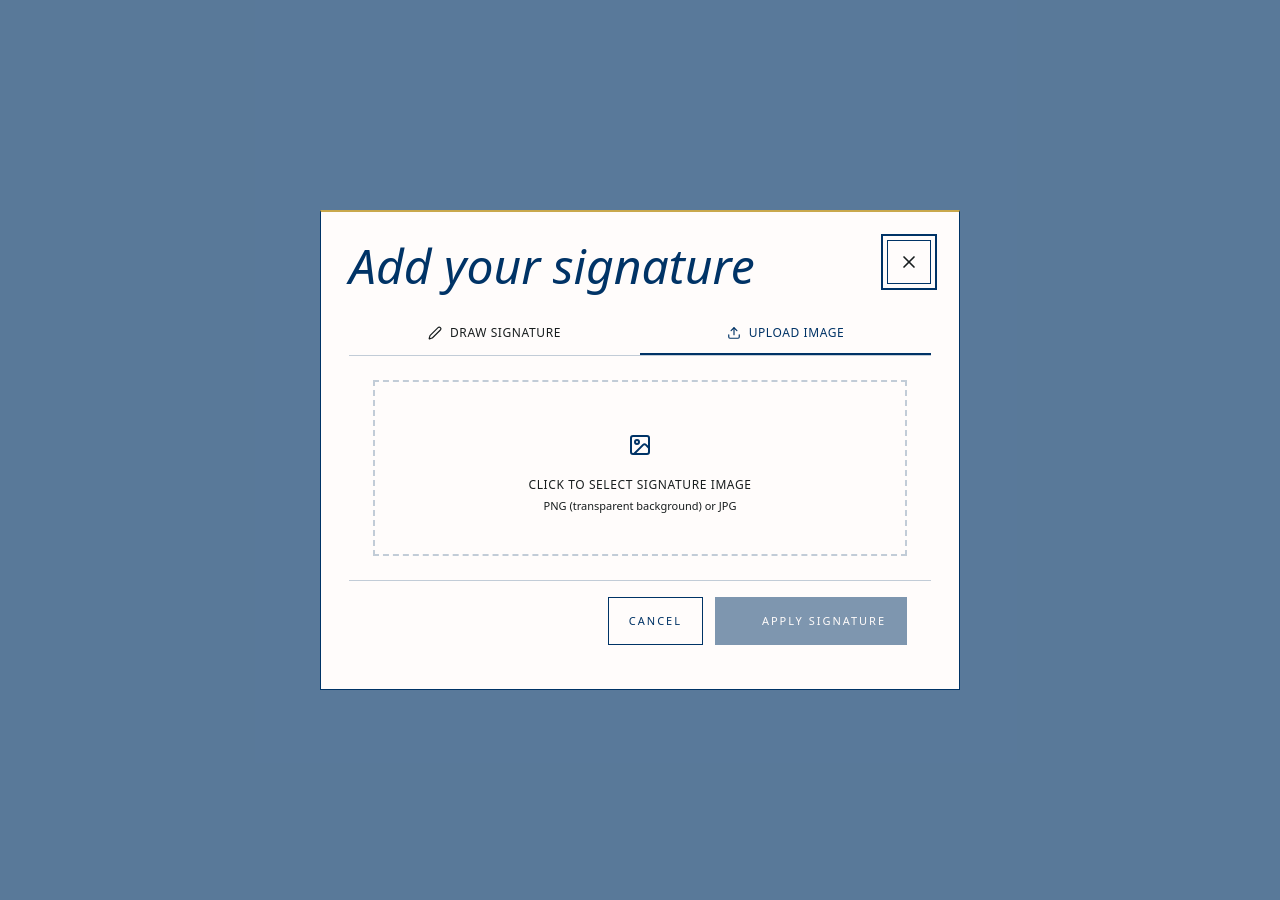
Test case: SignatureModal › keeps the Draw Signature tab active after it is clicked
Click the button "Draw Signature": (494,334) [349,313,640,355]
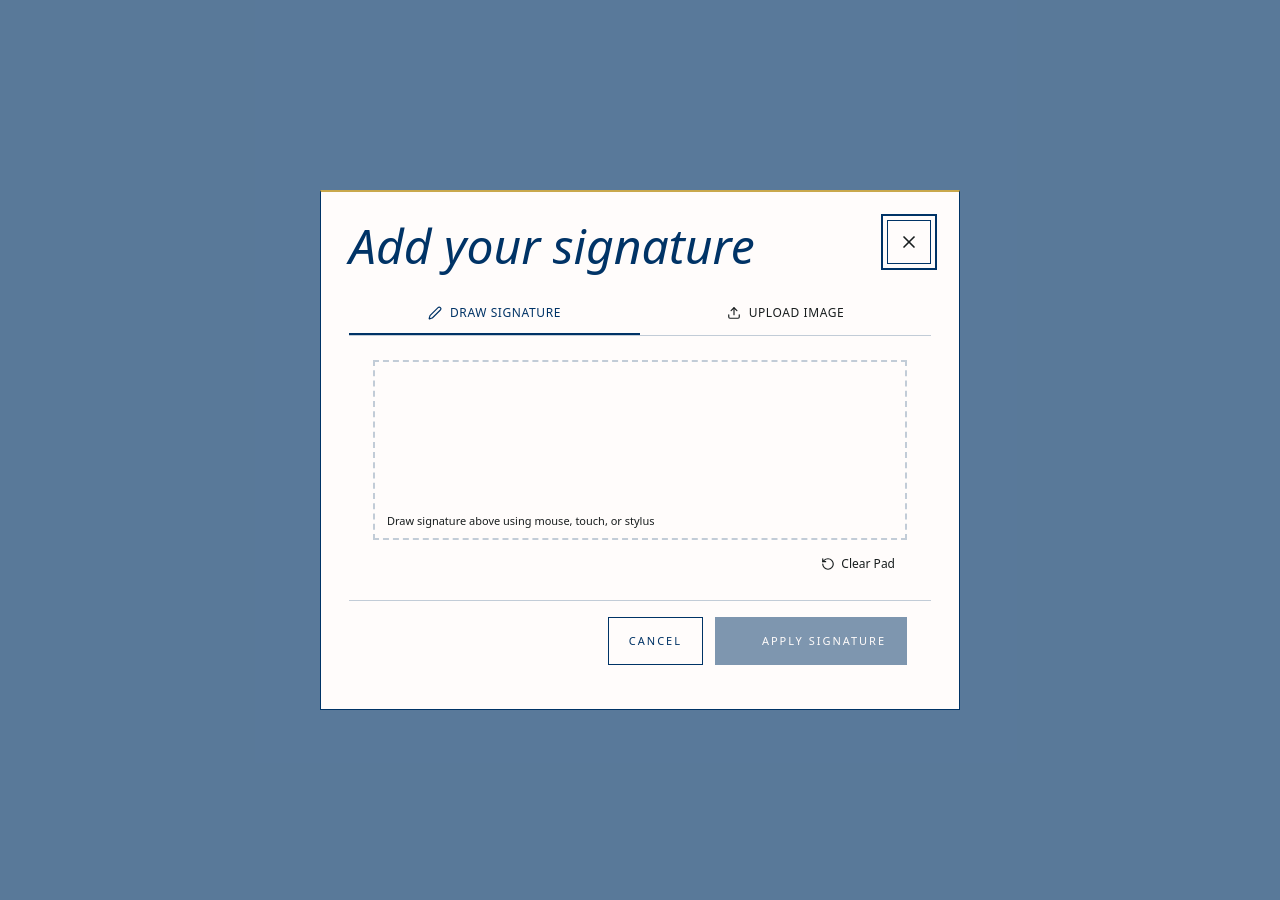
Expected: the drawing named "Draw your signature" is shown, [375,362,905,538]
Expected: the text "Click to select signature image" is gone
